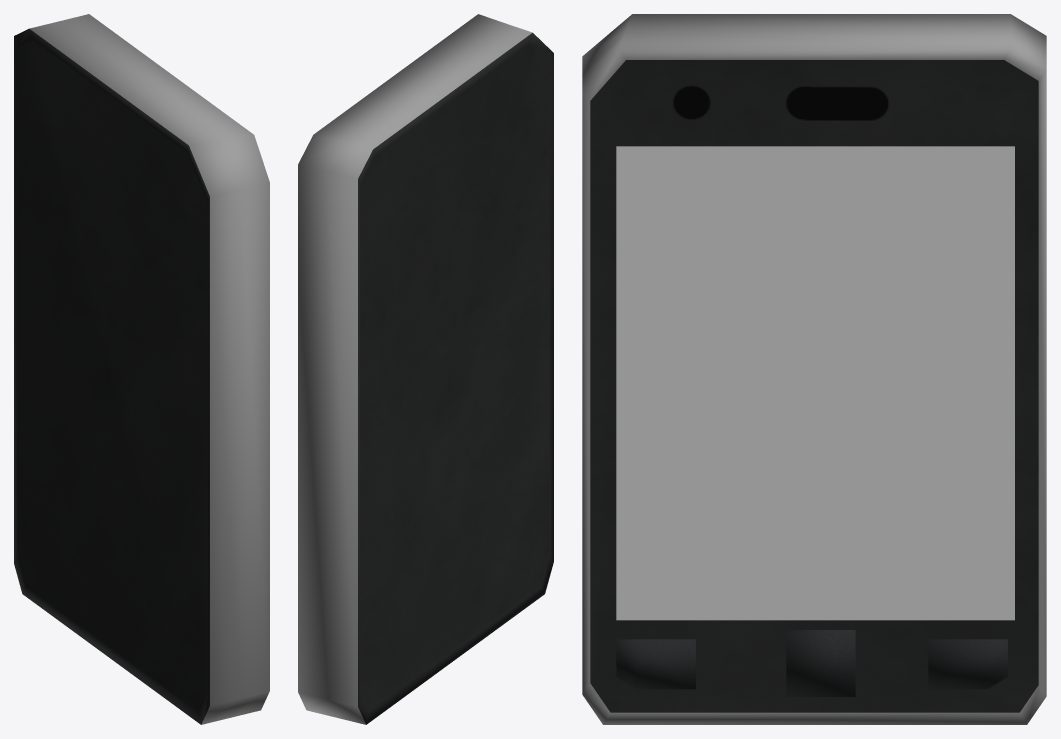
Rendered from celular.fbx.
The picture shows the model from 3 angles, left to right: view 1: azimuth 30°, elevation 25°; view 2: azimuth 150°, elevation 25°; view 3: azimuth 270°, elevation 25°; orthographic projection. The views are drawn at different scales.
Visible parts, largest first — view 1: Celular; view 2: Celular; view 3: Celular.
Boxes of the visible parts, x1,y1,x2,y2 form: Celular: (14,14,269,724); Celular: (298,14,553,724); Celular: (582,14,1046,724).
Size of the model in its own units: 29.98 by 248 by 154.
